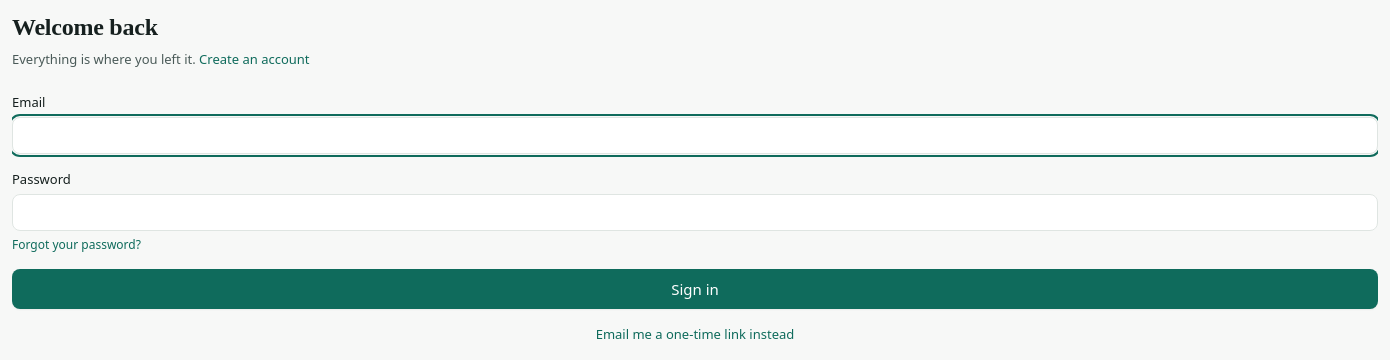
Test: P0-06 Test C · a failure is never dressed as a sent email › the provider is unreachable → no confirmation, and the reason is stated
Click the button "Email me a one-time link instead" at (695, 334), box [596,325,794,343]
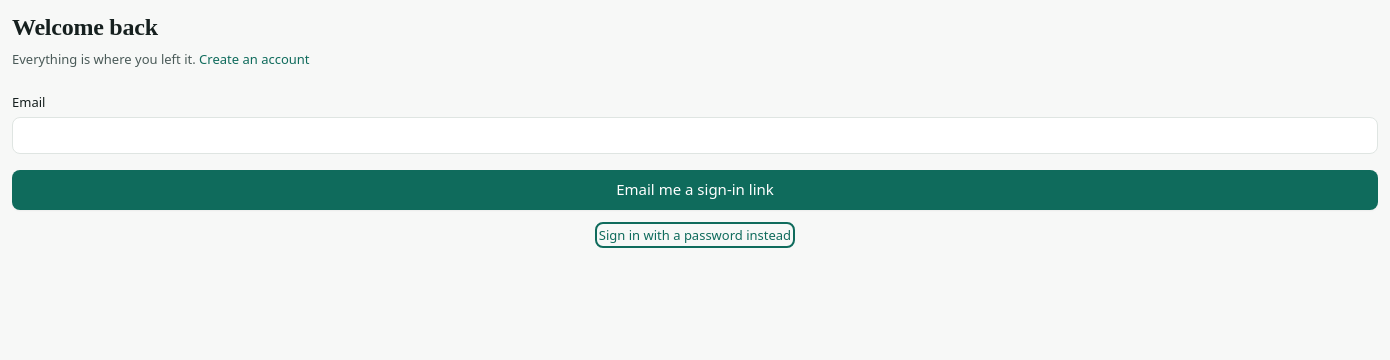
Type "someone@example.test" into the field labelled "Email" at (695, 135), box [12,117,1378,154]
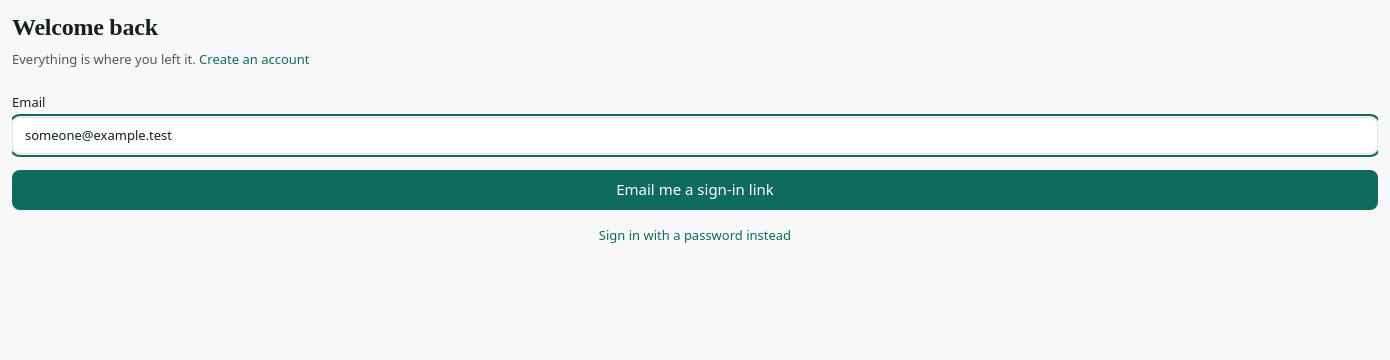
Click the button "Email me a sign-in link" at (695, 190), box [12,170,1378,210]
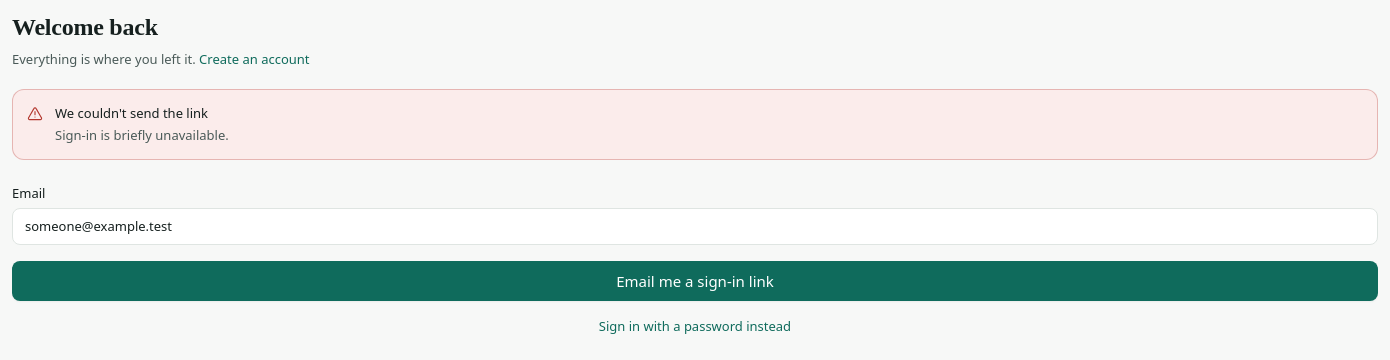
Check: the text "We couldn't send the link" is shown, box [55,104,208,122]
